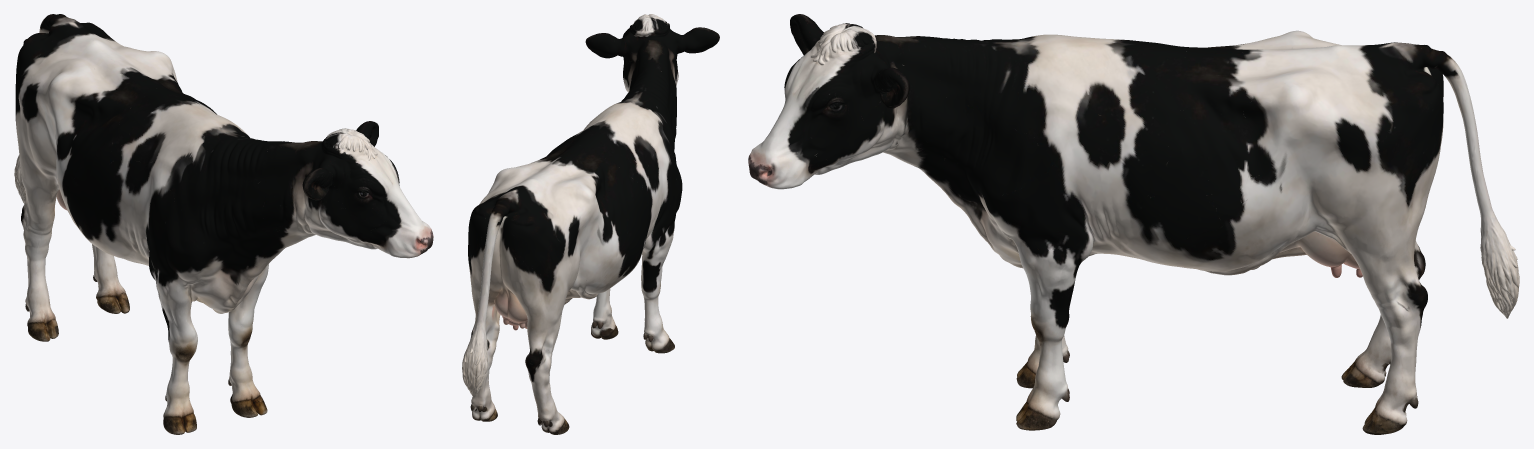
File: cow.glb
The picture shows the model from 3 angles, left to right: view 1: azimuth 30°, elevation 25°; view 2: azimuth 150°, elevation 25°; view 3: azimuth 270°, elevation 25°; orthographic projection. The views are drawn at different scales.
Parts seen in each view (by area): view 1: cow; view 2: cow; view 3: cow.
Boxes of the visible parts, box(x1,y1,x2,y2) form: cow: box(14, 14, 433, 434); cow: box(462, 14, 719, 434); cow: box(748, 14, 1519, 434).
Size of the model in its own units: 0.7996 by 1.41 by 2.4.
1 material, 1 textured.
